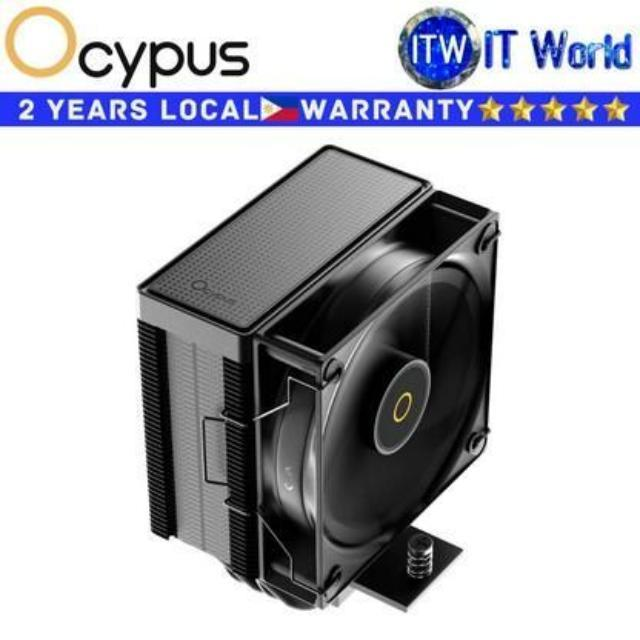CPU_Fan: (138, 141, 498, 607)
